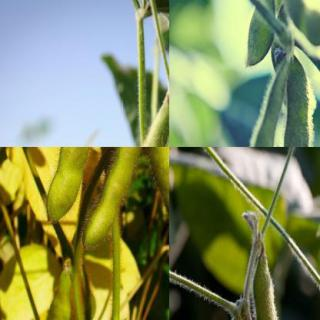soya: (82, 147, 144, 251), (45, 147, 93, 225), (266, 63, 310, 146), (248, 73, 286, 146), (144, 147, 168, 259), (253, 257, 293, 319), (112, 102, 168, 146), (243, 0, 275, 69), (271, 0, 319, 43)
